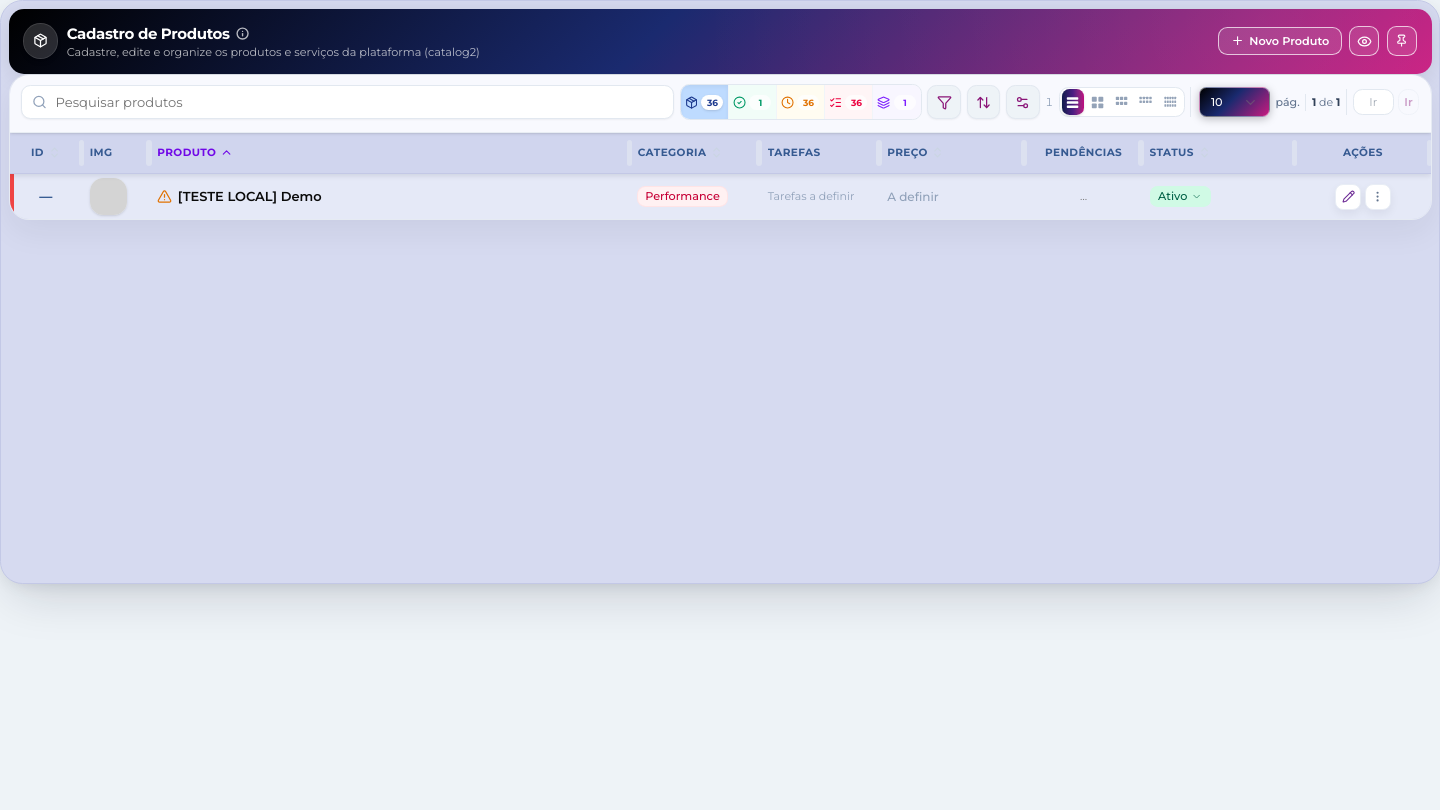
Lista/Grade — alternador de visualização (Cadastro) › ajuste de colunas: 2/3/4/5 colunas produzem classes de grid diferentes
Later steps or results of the test are not shown.
Expected: the button "[TESTE LOCAL] Demo" is shown, 178,188 -> 623,205
Click the button named "5 colunas": click(1170, 102) 1159,89 -> 1182,115
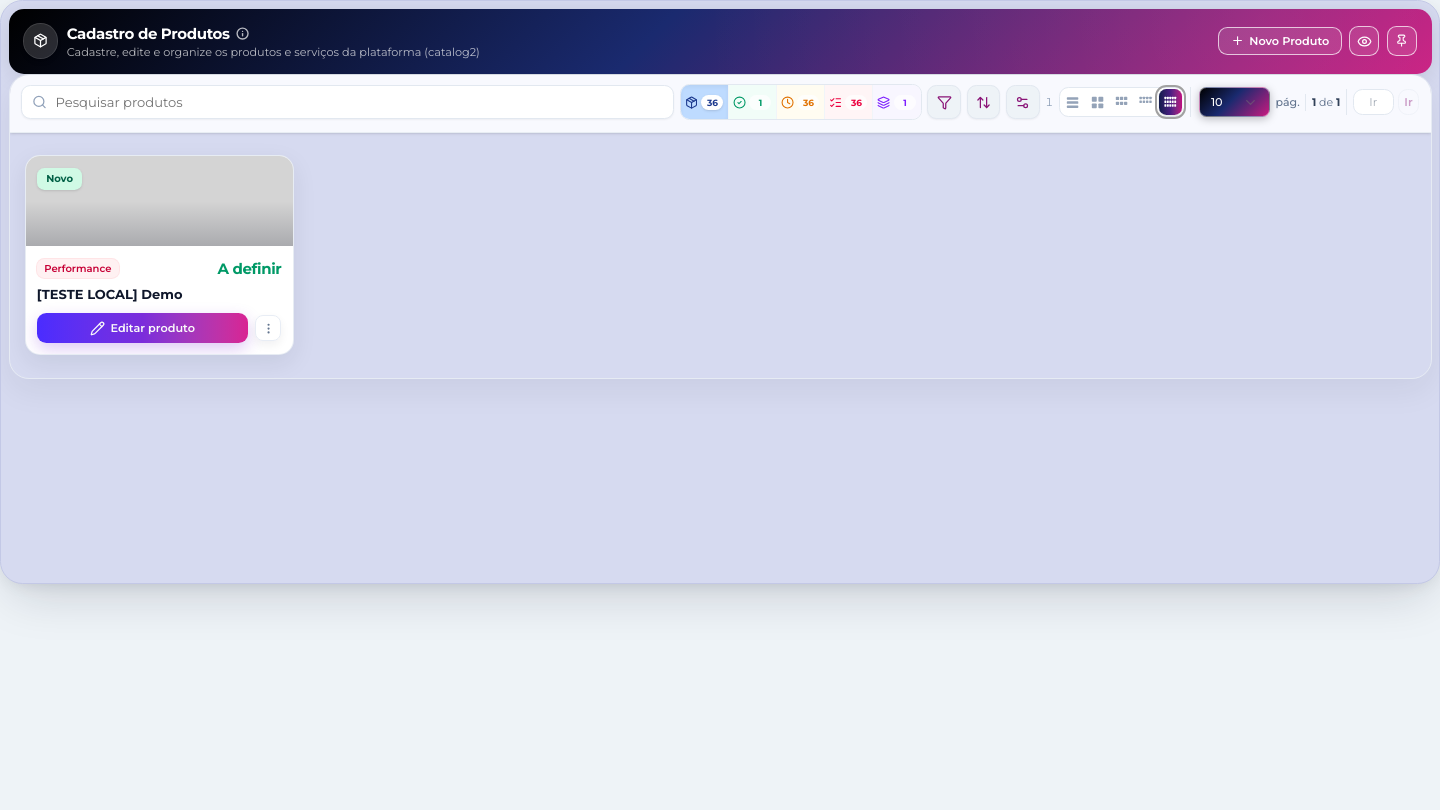
Now the element with class "grid-cols-2" is shown, box 24,155 -> 294,355
